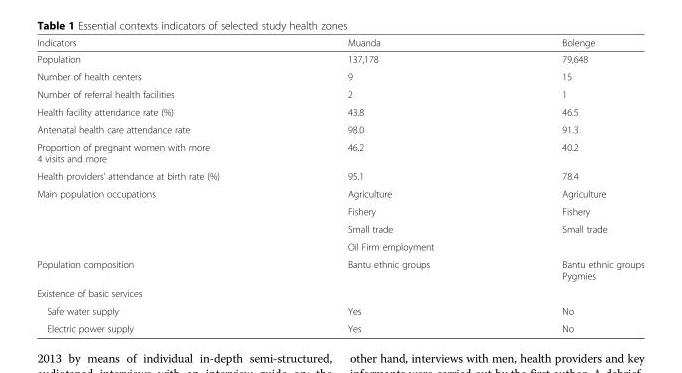table: (36, 36, 643, 333)
table column: (36, 36, 282, 333), (282, 36, 497, 333), (497, 36, 643, 333)
table column header: (36, 36, 643, 50)
table projected row header: (36, 284, 643, 301)
table row: (36, 255, 643, 284), (36, 138, 643, 166), (36, 67, 643, 85), (36, 102, 643, 120), (36, 120, 643, 138), (36, 166, 643, 184), (36, 184, 643, 202), (36, 219, 643, 237), (36, 237, 643, 255), (36, 301, 643, 319), (36, 50, 643, 67), (36, 85, 643, 102), (36, 202, 643, 219), (36, 284, 643, 301), (36, 36, 643, 50), (36, 319, 643, 333)
table spanning cell: (36, 184, 282, 255), (497, 219, 643, 255)
